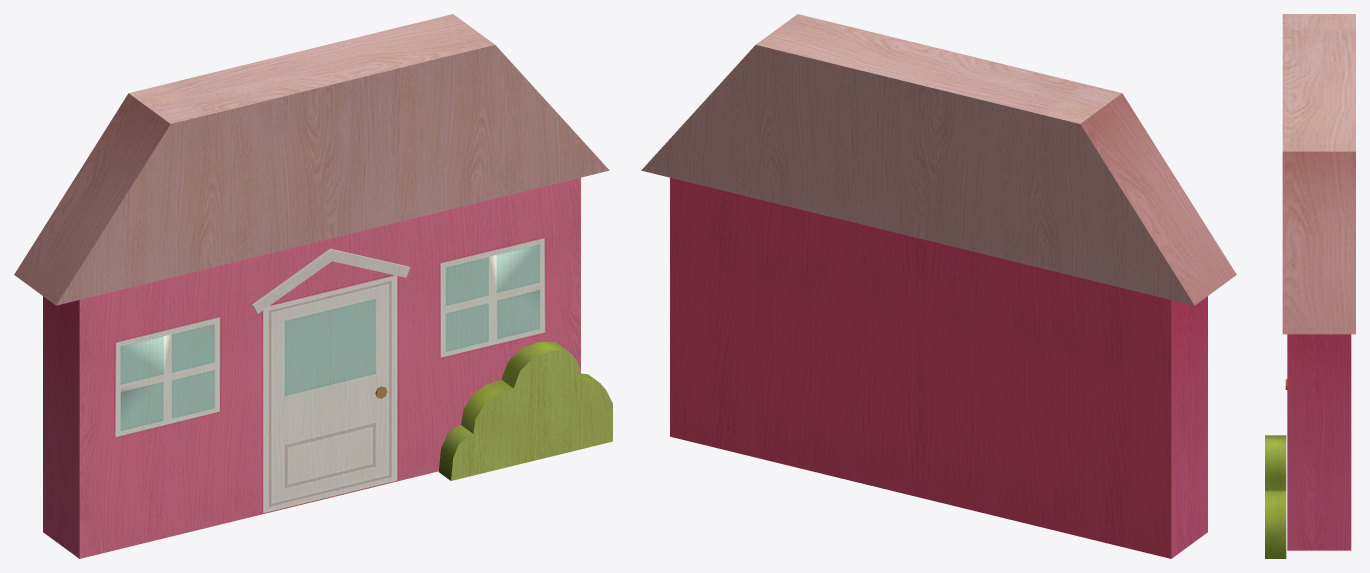
File: Doll_OB_ToyTrainDec_006.FBX
3 views of the same model, side by side, from view 1: azimuth 30°, elevation 25°; view 2: azimuth 150°, elevation 25°; view 3: azimuth 270°, elevation 25° (orthographic). The views are drawn at different scales.
Visible parts, largest first — view 1: Doll_OB_ToyTrainDec_006; view 2: Doll_OB_ToyTrainDec_006; view 3: Doll_OB_ToyTrainDec_006.
Boxes of the visible parts, left/top/right/bottom form: Doll_OB_ToyTrainDec_006: left=14, top=14, right=612, bottom=558; Doll_OB_ToyTrainDec_006: left=641, top=14, right=1236, bottom=558; Doll_OB_ToyTrainDec_006: left=1265, top=14, right=1355, bottom=558.
Bounding box in the file's own units: 30.99 × 22.22 × 5.07.
